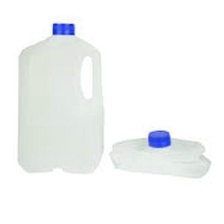bottle: (15, 16, 105, 175), (106, 127, 214, 179)
